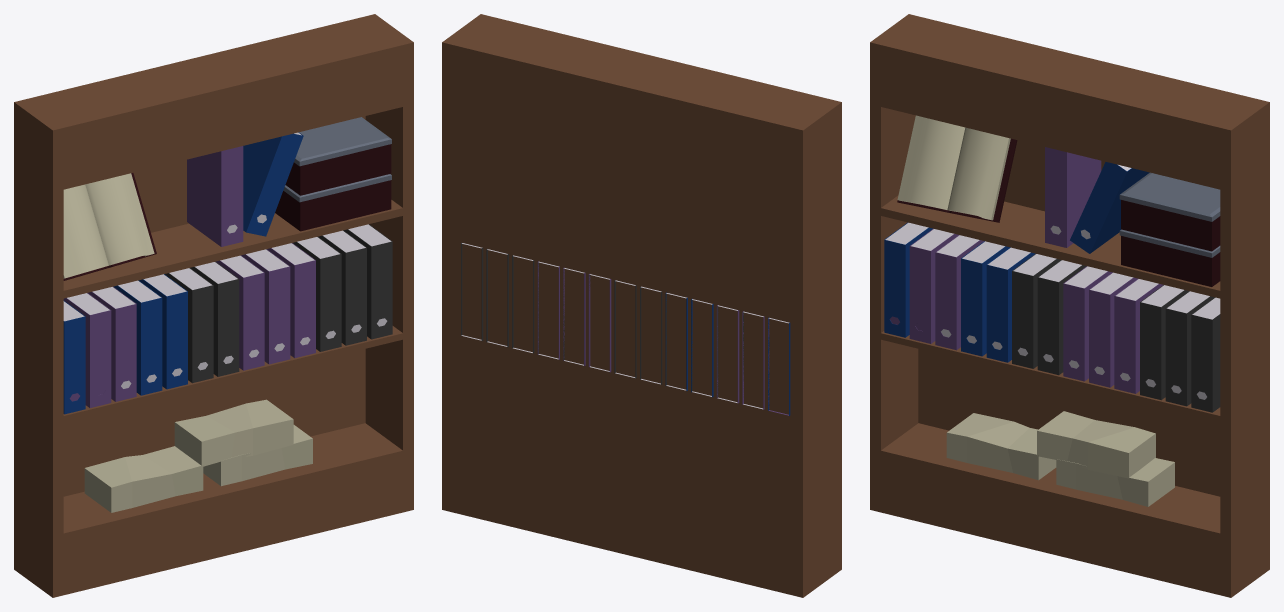
Rendered from cabinet9.fbx.
3 views of the same model, side by side, from view 1: azimuth 30°, elevation 25°; view 2: azimuth 150°, elevation 25°; view 3: azimuth 330°, elevation 25° (orthographic).
Parts seen in each view (by area): view 1: Cabinet1.031, Book0.019, Textured.007, box.006, Cube.209, Cube.211, Book0.020, box.005, Book0.021, Cube.210; view 2: Cabinet1.031, Book0.019; view 3: Cabinet1.031, Book0.019, Textured.007, box.006, Cube.211, Cube.209, Book0.020, box.005, Cube.210, Book0.021.
Part boxes in pixels (<box>): Cabinet1.031: <box>14,14,413,597</box>; Book0.019: <box>63,224,392,414</box>; Textured.007: <box>63,173,156,280</box>; box.006: <box>285,117,391,195</box>; Cube.209: <box>84,446,203,512</box>; Cube.211: <box>174,399,293,466</box>; Book0.020: <box>187,146,243,246</box>; box.005: <box>275,174,391,231</box>; Book0.021: <box>243,132,303,236</box>; Cube.210: <box>203,425,312,486</box>; Cabinet1.031: <box>442,14,841,597</box>; Book0.019: <box>461,242,790,415</box>; Cabinet1.031: <box>870,14,1269,597</box>; Book0.019: <box>884,222,1220,412</box>; Textured.007: <box>897,115,1017,222</box>; box.006: <box>1119,172,1220,251</box>; Cube.211: <box>1037,411,1155,478</box>; Cube.209: <box>946,413,1056,480</box>; Book0.020: <box>1045,147,1101,247</box>; box.005: <box>1119,229,1220,286</box>; Cube.210: <box>1056,458,1174,506</box>; Book0.021: <box>1070,162,1149,253</box>.
Size of the model in its own units: 0.8449 by 1.05 by 0.1617.
